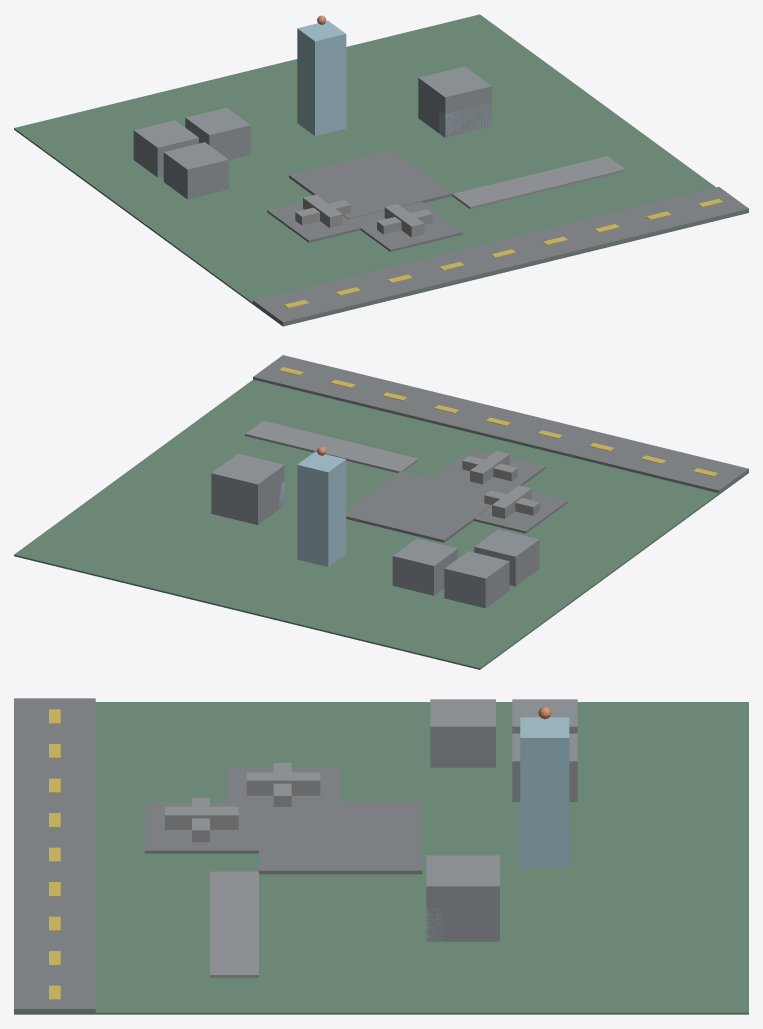
Rendered from stage_09.glb.
3 renders of one model, top to bottom at view 1: azimuth 30°, elevation 25°; view 2: azimuth 150°, elevation 25°; view 3: azimuth 270°, elevation 25°, orthographic. The views are drawn at different scales.
Parts seen in each view (by area): view 1: geometry_0; view 2: geometry_0; view 3: geometry_0.
Boxes of the visible parts, x1,y1,x2,y2 form: geometry_0: [14, 14, 748, 326]; geometry_0: [14, 355, 748, 669]; geometry_0: [14, 698, 748, 1014].
Bounding box in the file's own units: 9 × 2.06 × 9.
